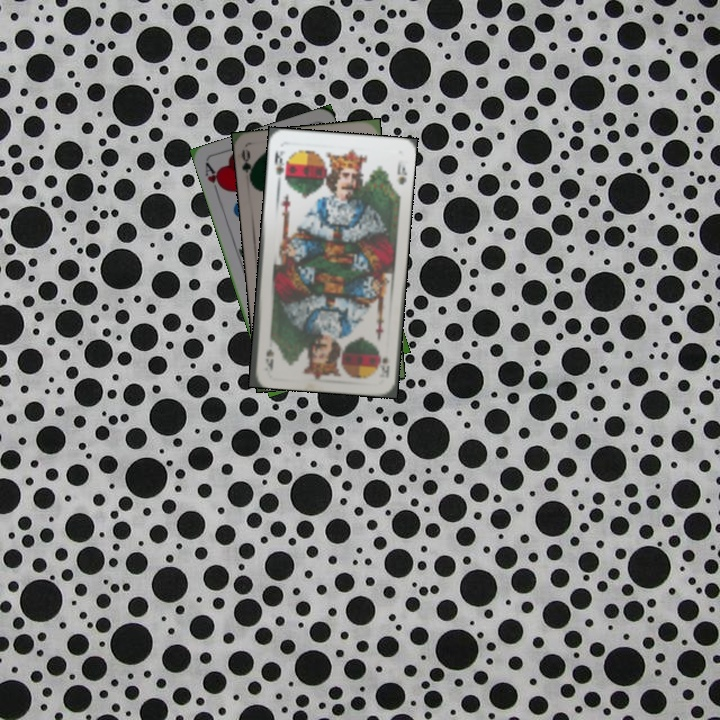GO: (237, 146, 258, 187)
HA: (201, 159, 226, 199)
SK: (270, 146, 289, 183), (375, 346, 392, 380)
